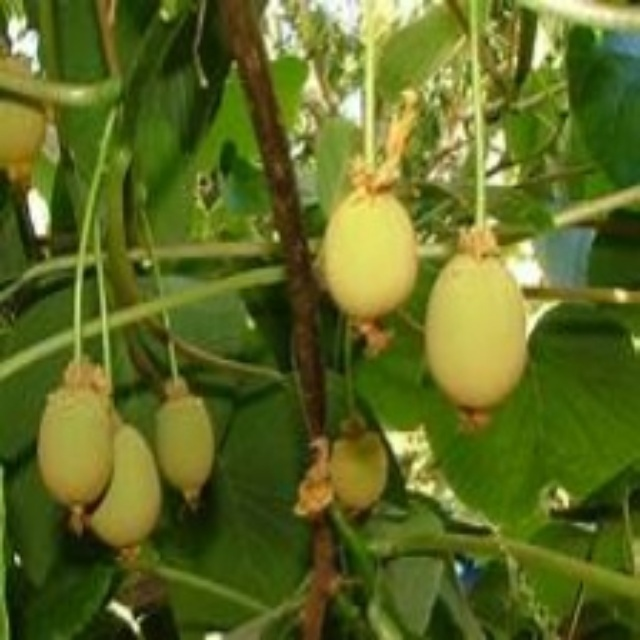kiwi: (32, 374, 157, 556), (428, 246, 530, 422), (326, 189, 418, 333), (152, 381, 230, 502), (2, 52, 59, 213), (315, 409, 389, 524)
